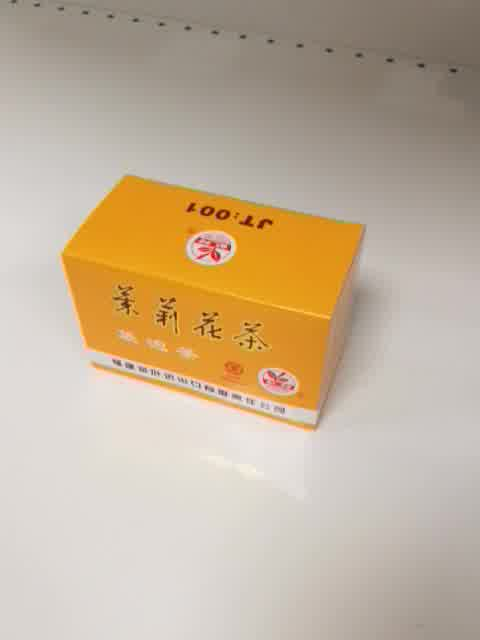jasminetea: (58, 173, 367, 432)
